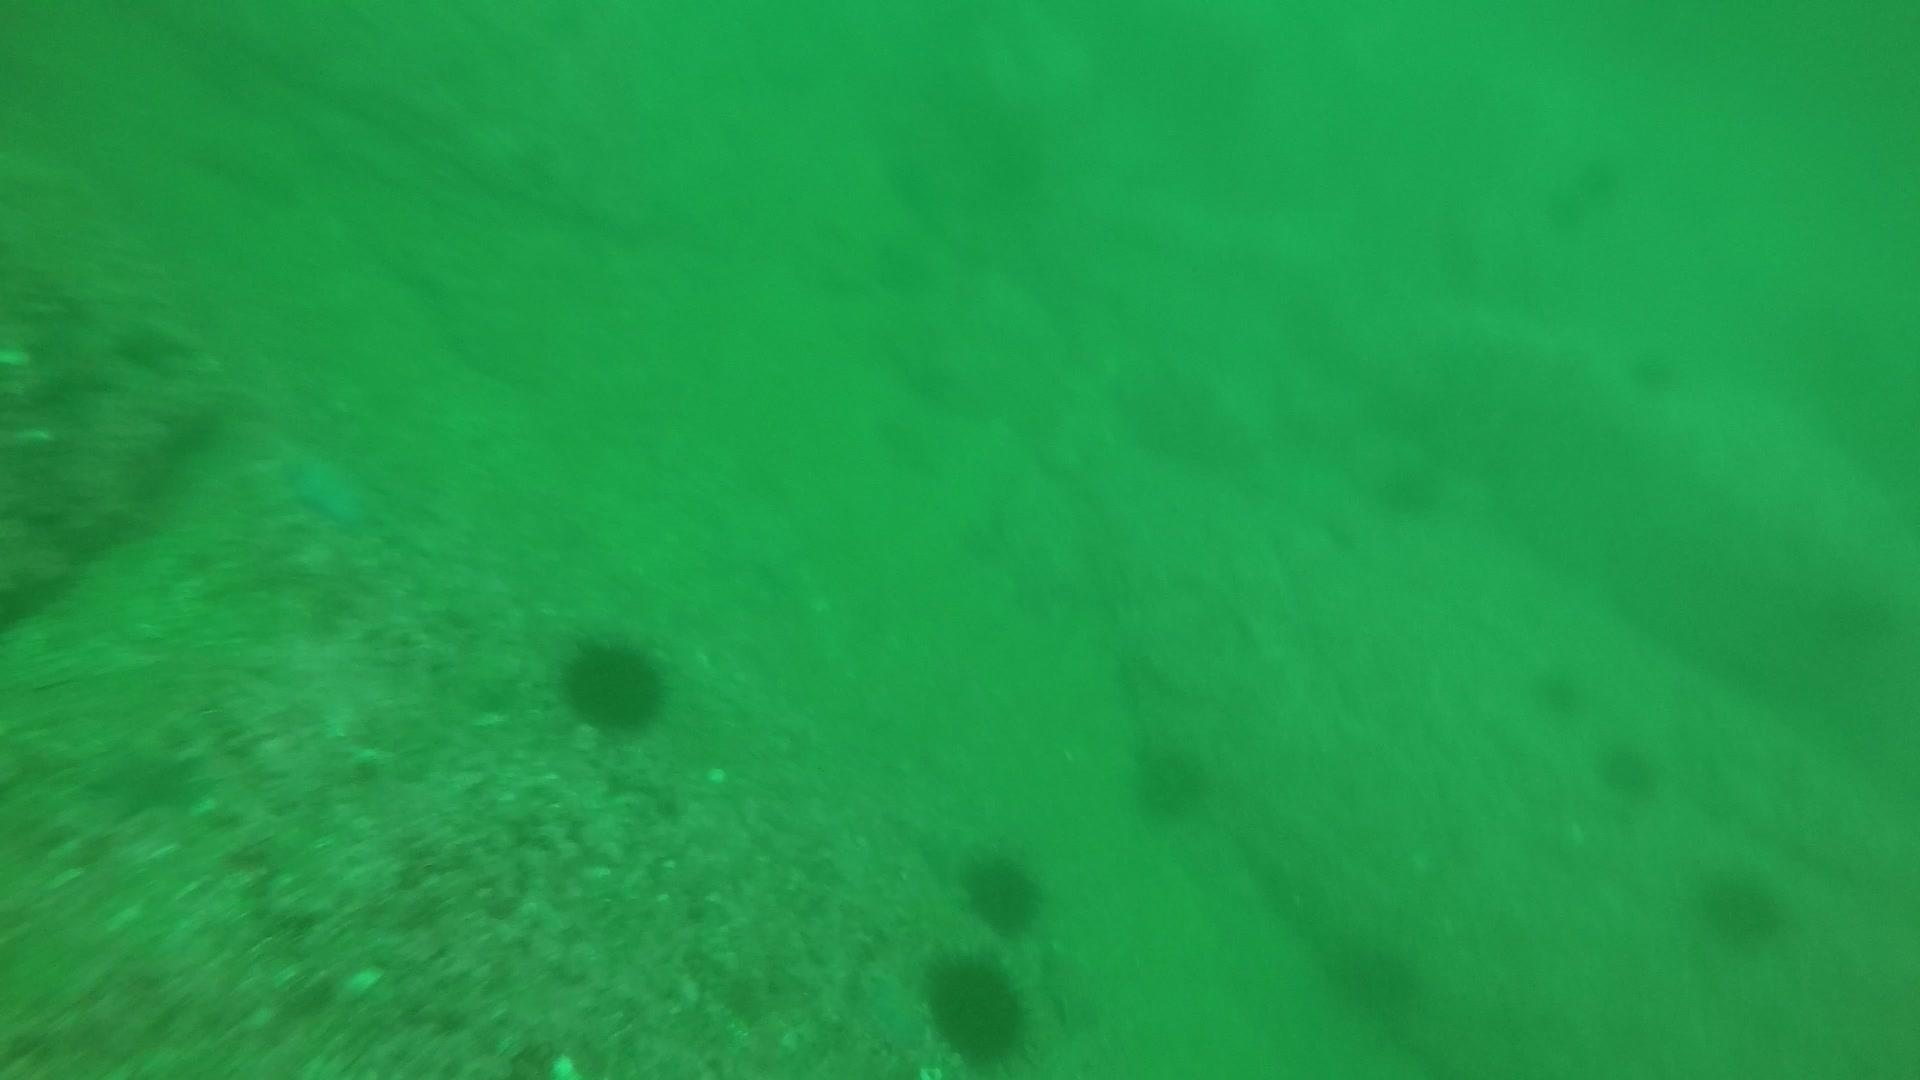echinus: (916, 948, 1036, 1068), (554, 628, 673, 738), (1321, 930, 1427, 1019), (1692, 860, 1791, 949), (957, 845, 1048, 938), (1125, 731, 1215, 824), (1371, 451, 1449, 521), (1593, 735, 1663, 802), (1622, 339, 1687, 398), (1527, 658, 1589, 717), (1555, 195, 1602, 235), (1580, 157, 1615, 200)
starfish: (280, 443, 377, 531)
